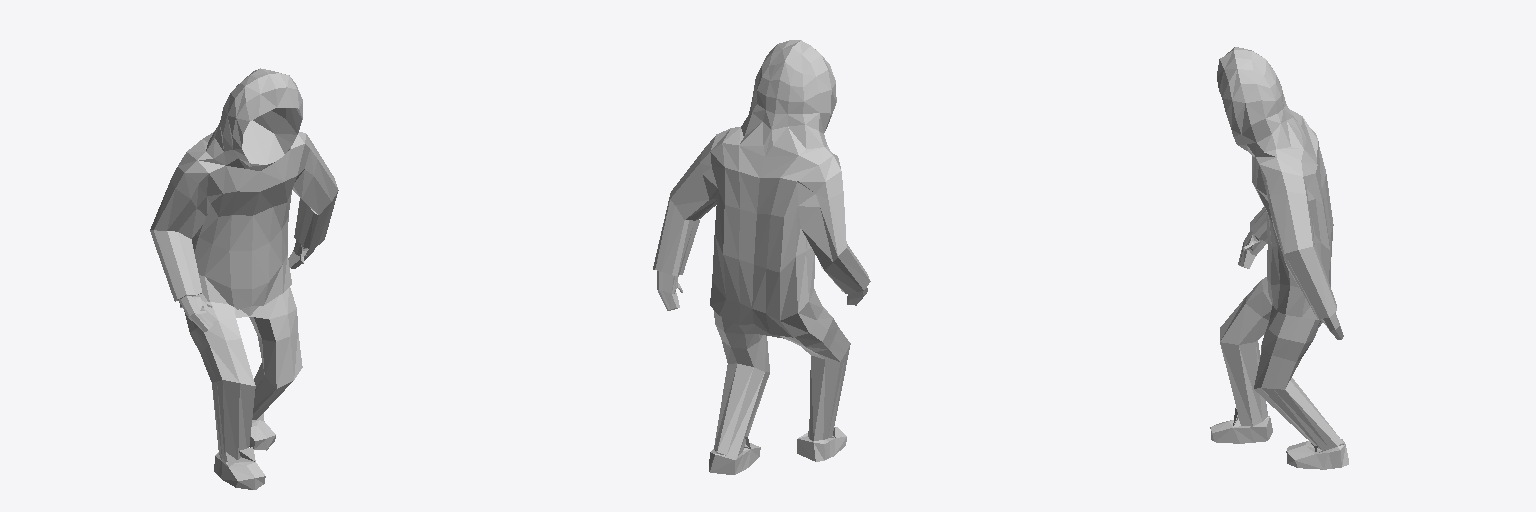
Rendered from Shadowmanv_000001.obj.
3 views of the same model, side by side, from view 1: azimuth 30°, elevation 25°; view 2: azimuth 150°, elevation 25°; view 3: azimuth 270°, elevation 25° (orthographic).
Parts seen in each view (by area): view 1: Cube.000; view 2: Cube.000; view 3: Cube.000.
Boxes of the visible parts, x1=… form: Cube.000: x1=150, y1=68, x2=338, y2=489; Cube.000: x1=653, y1=40, x2=870, y2=474; Cube.000: x1=1210, y1=47, x2=1348, y2=469.
Size of the model in its own units: 5.18 by 10.99 by 3.44.